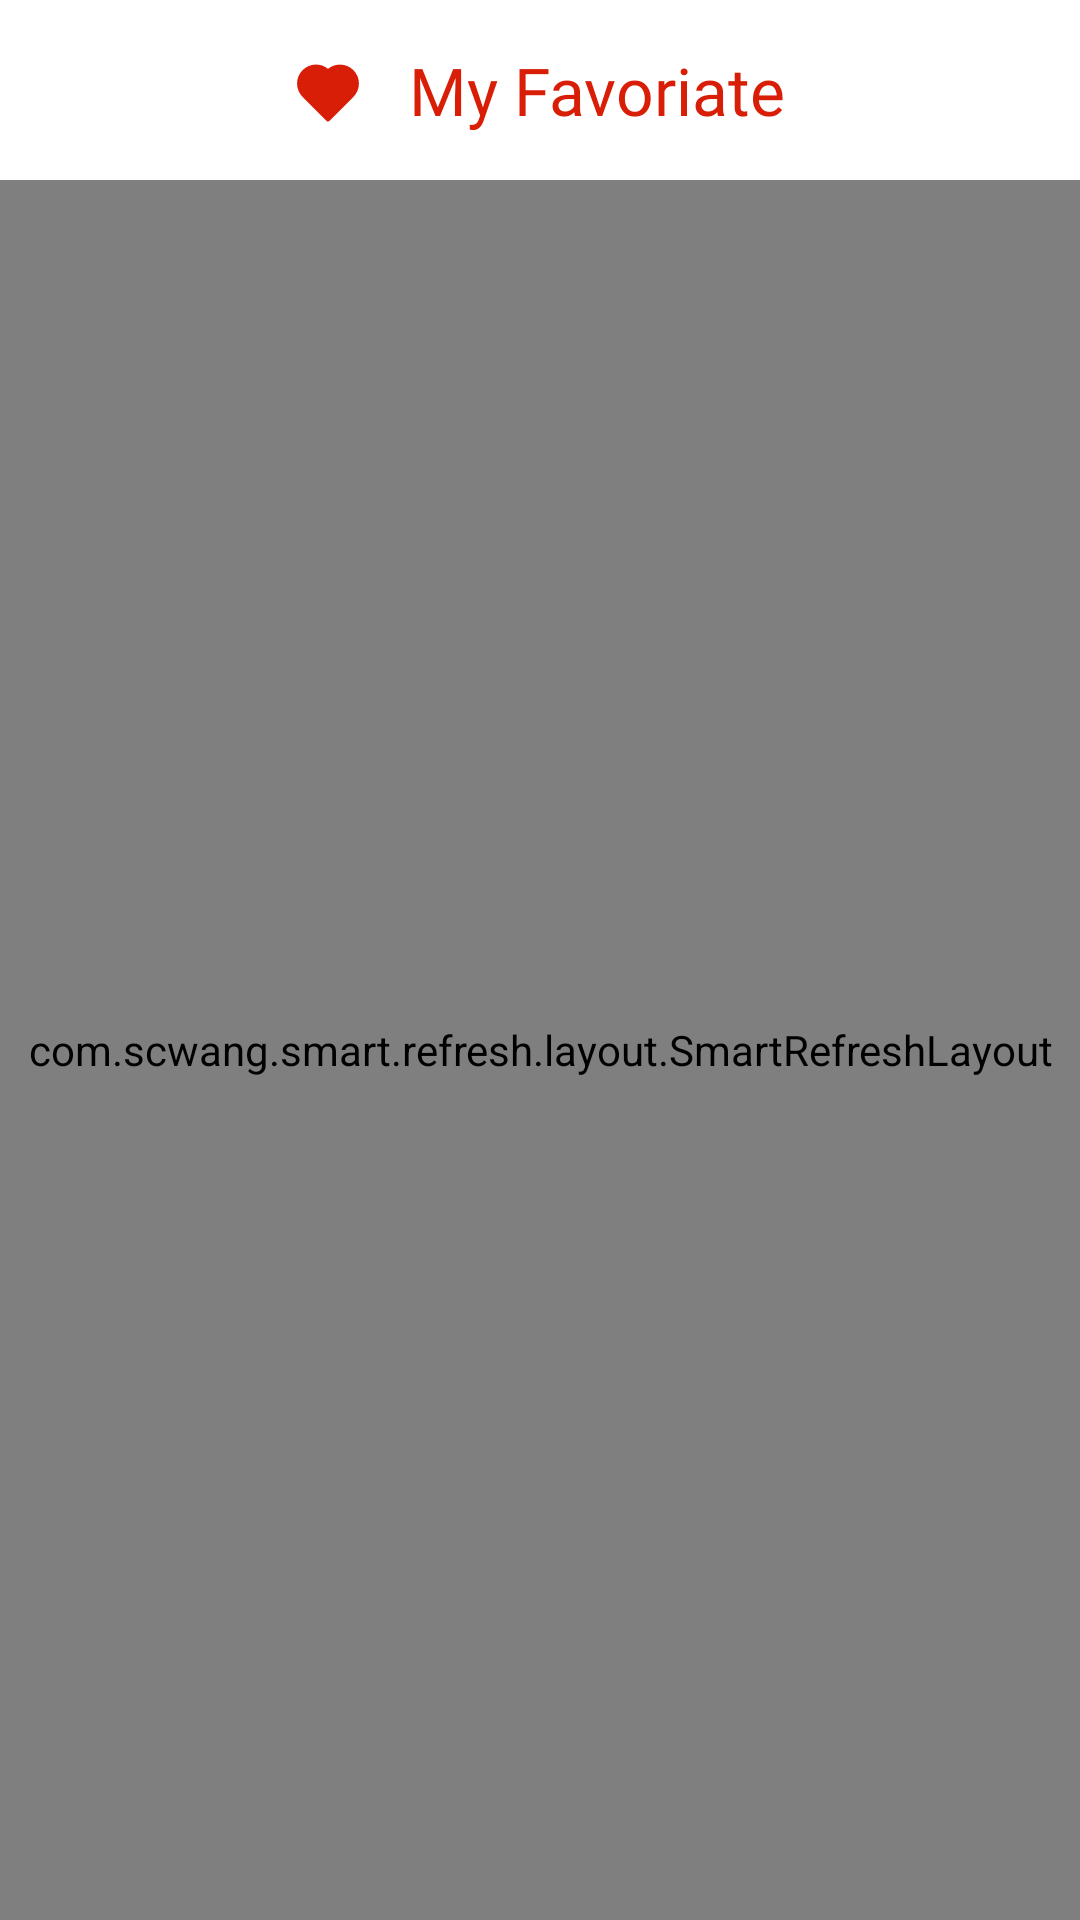

Named icons in this screenshot (1080 x 1920) and their centers, (x=x, y=y):
Like: (x=328, y=93)
